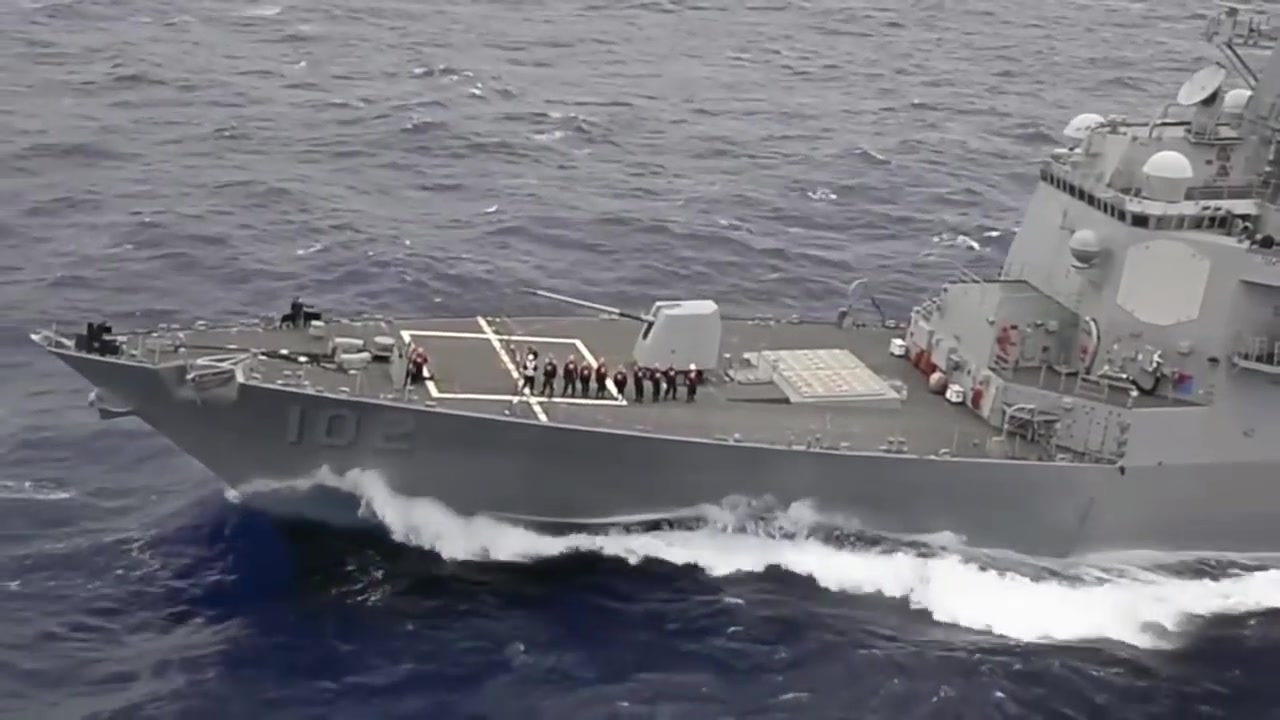WarShip: (26, 1, 1279, 559)
